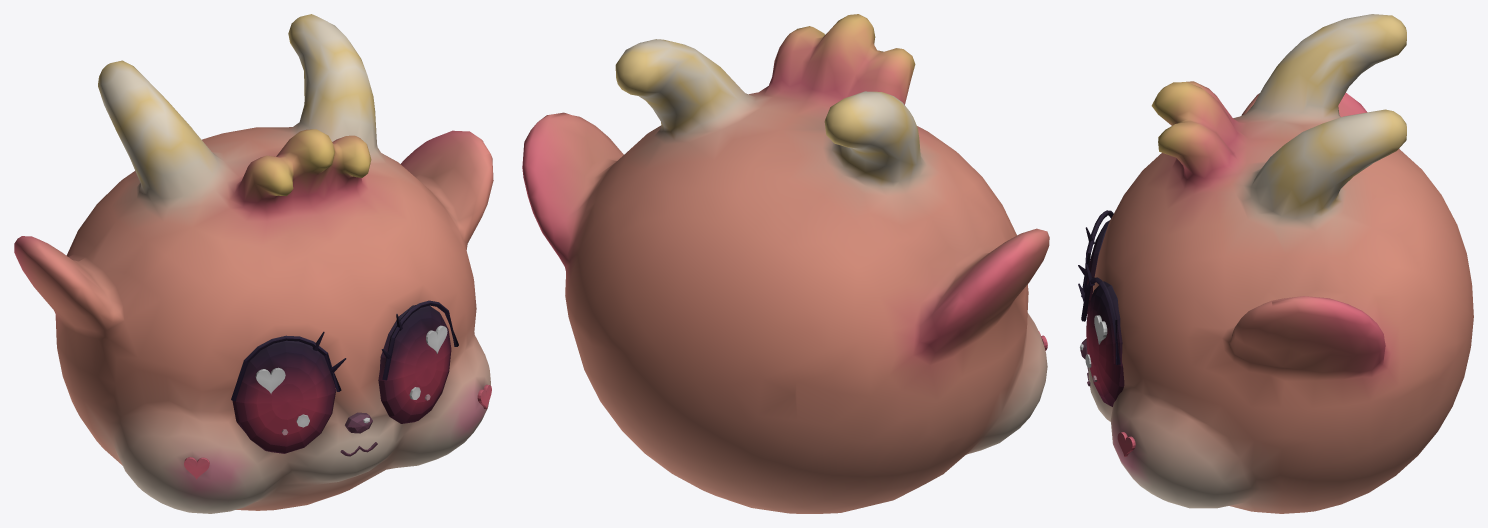
The model's file is fire-head.glb.
The picture shows the model from 3 angles, left to right: view 1: azimuth 30°, elevation 25°; view 2: azimuth 150°, elevation 25°; view 3: azimuth 270°, elevation 25°; orthographic projection. The views are drawn at different scales.
Visible parts, largest first — view 1: fire-head; view 2: fire-head; view 3: fire-head.
Part boxes in pixels (x1,y1,x2,y2): fire-head: [14, 14, 493, 513]; fire-head: [522, 14, 1049, 513]; fire-head: [1078, 14, 1473, 513].
Size of the model in its own units: 0.4965 by 0.4341 by 0.3645.
